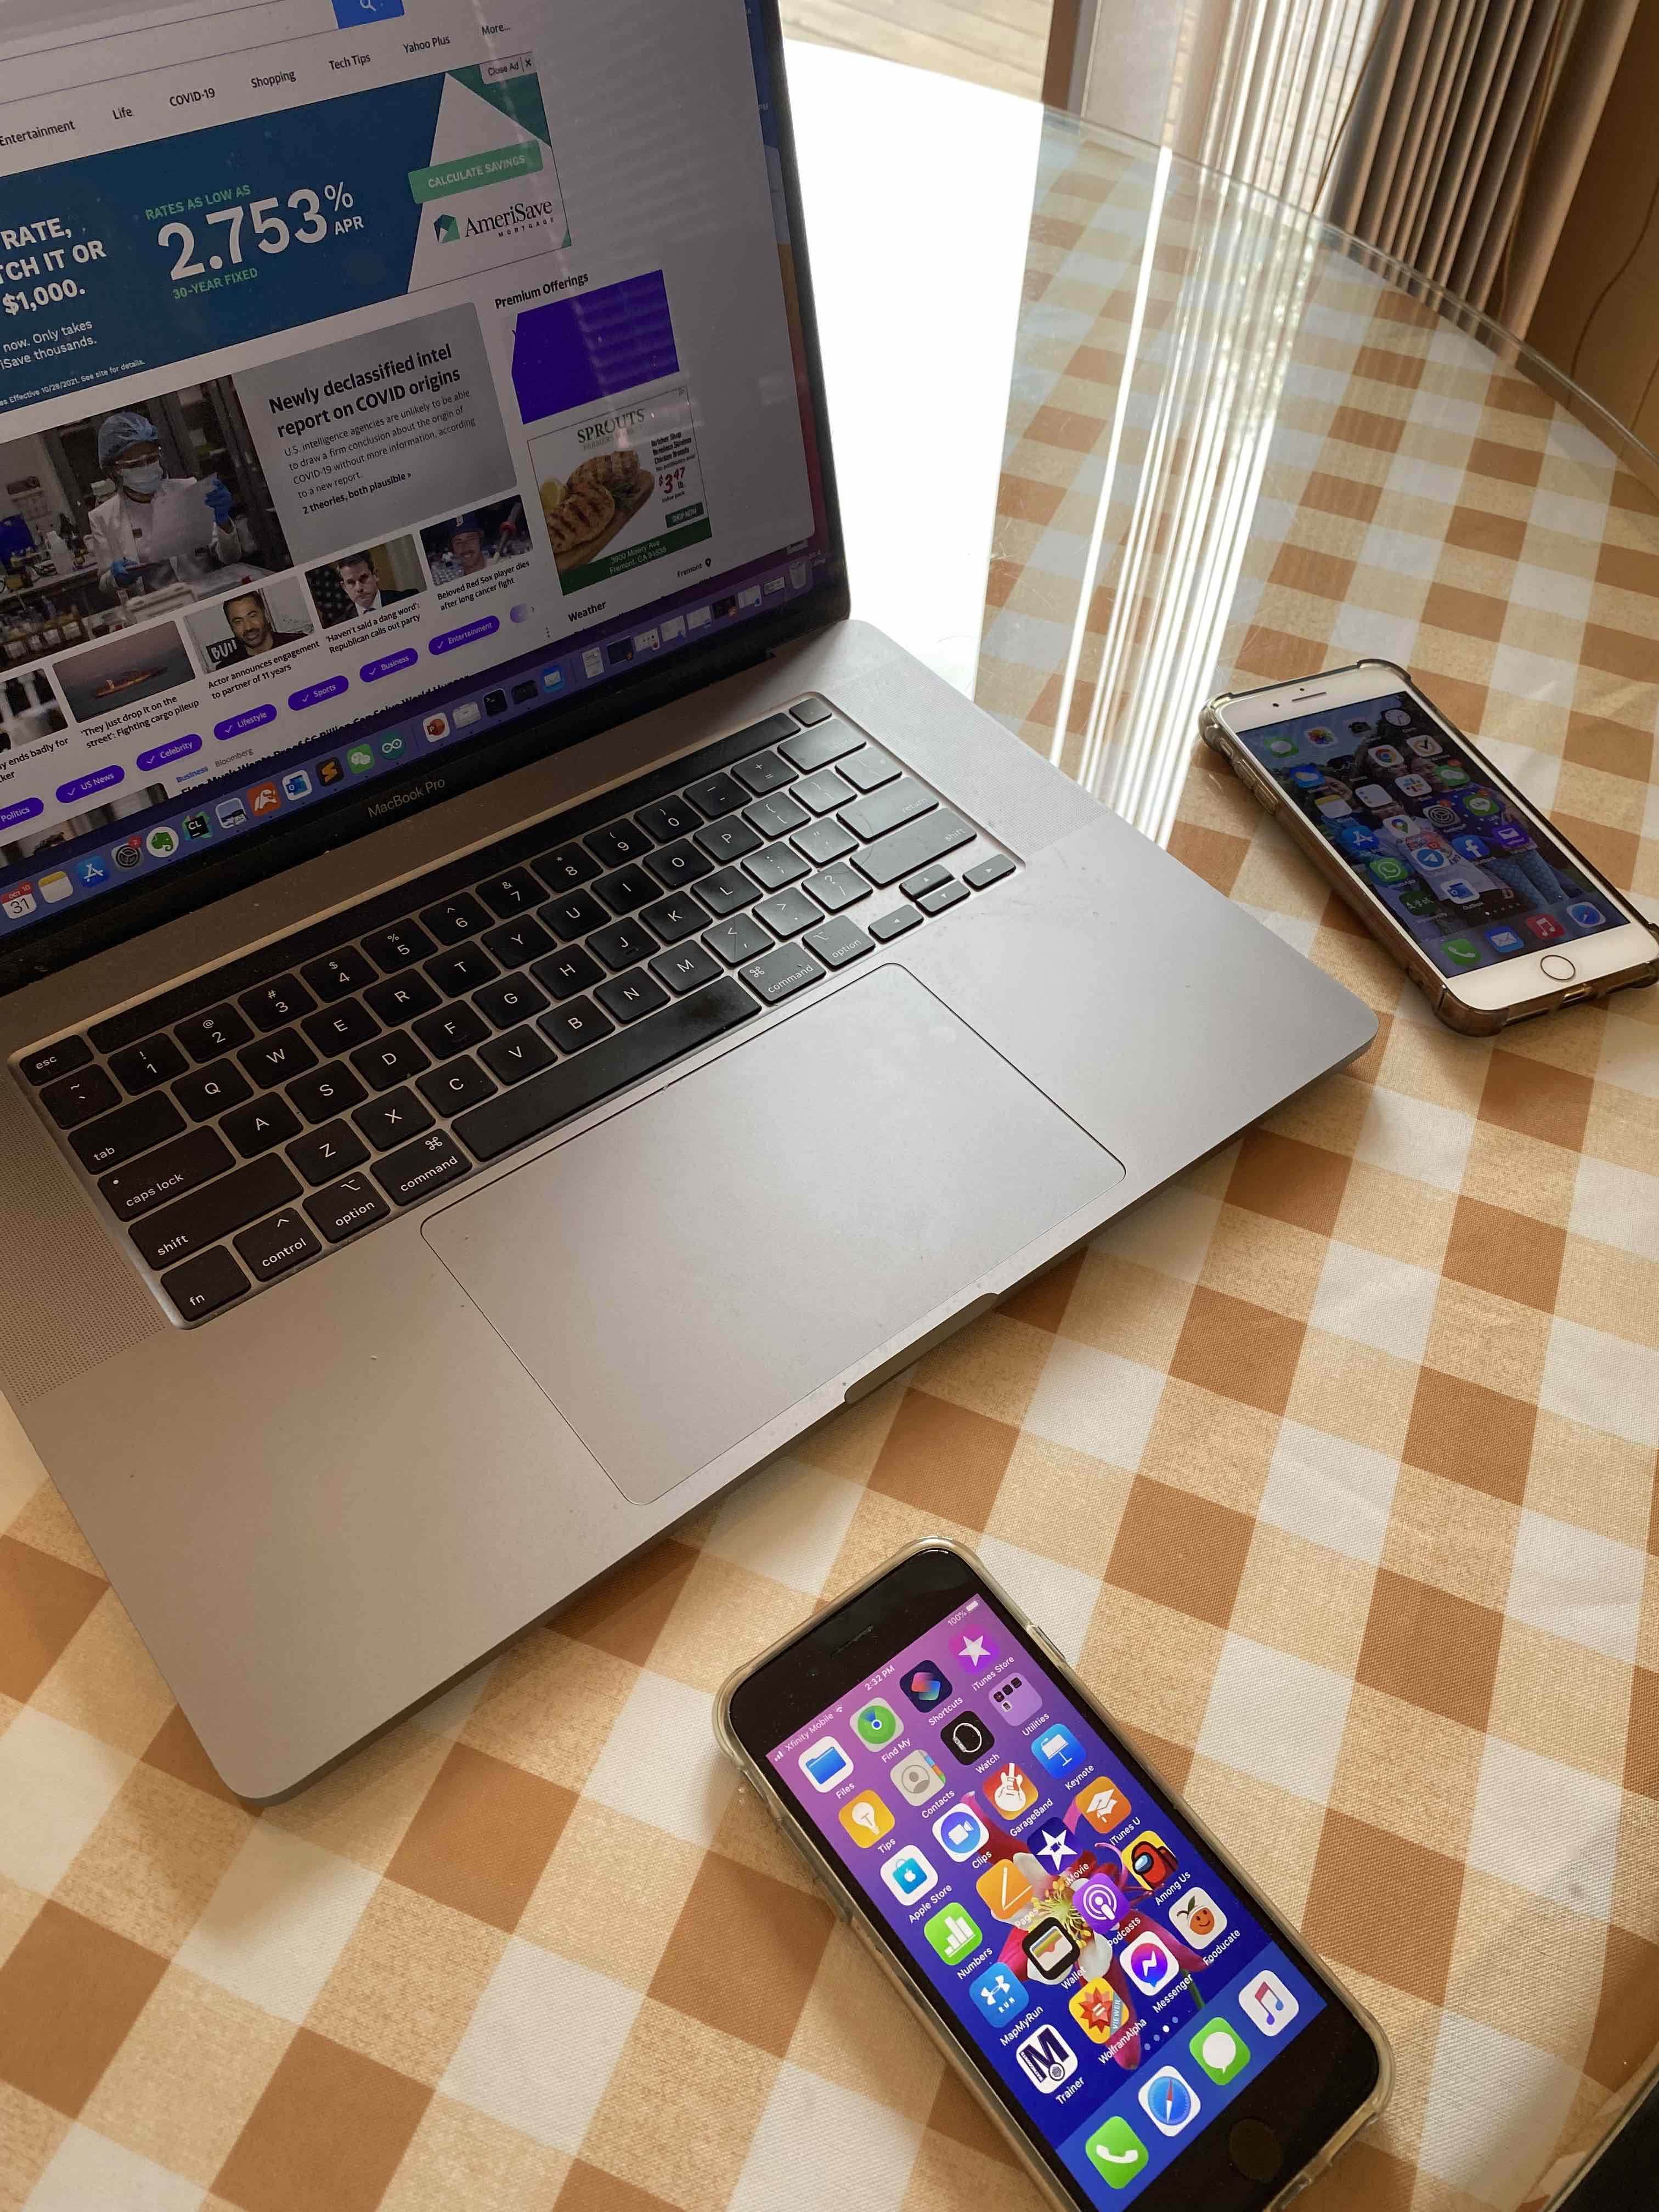Cell Phone: (730, 1531, 1392, 2202), (1199, 644, 1659, 1036)
